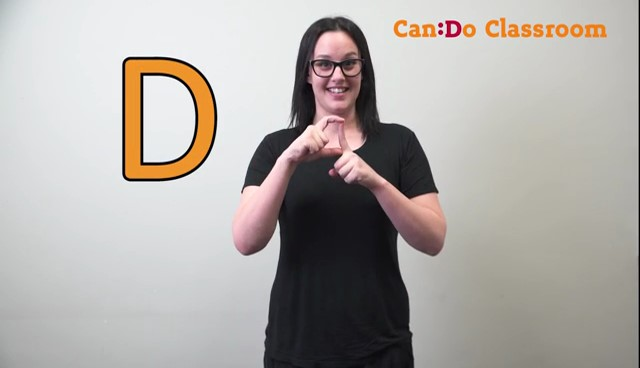D: (283, 110, 370, 192)
